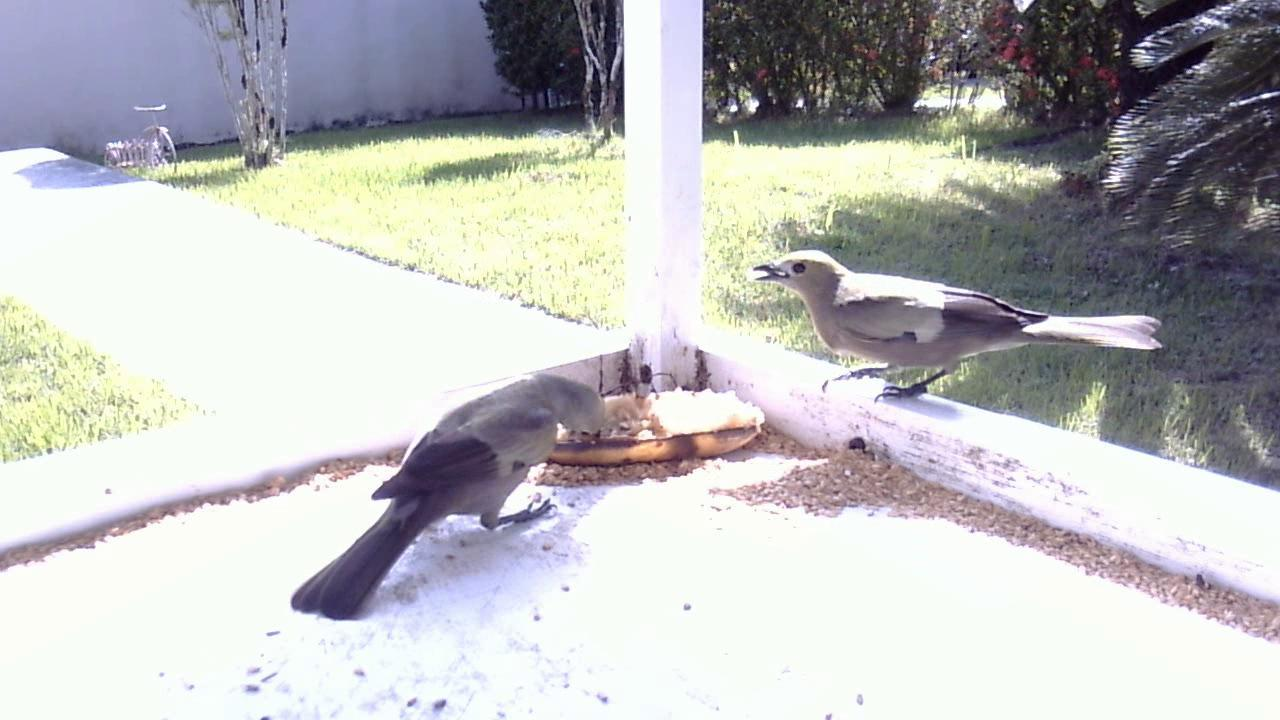sanhaco_do_coqueiro: (280, 354, 627, 627), (742, 242, 1147, 420)
